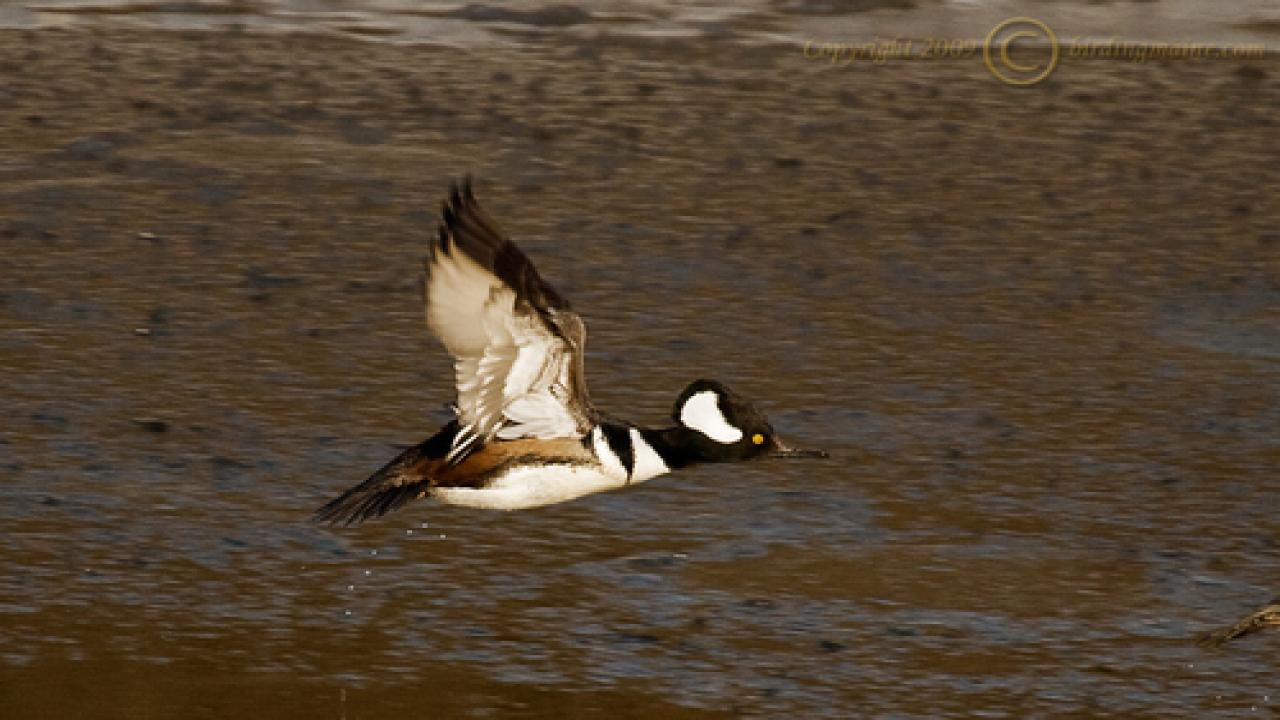Bird: (302, 166, 838, 544)
